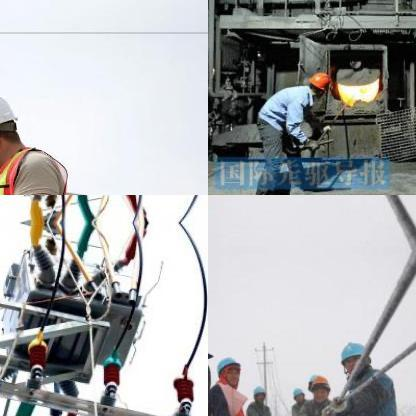Helmet: (0, 80, 26, 175), (336, 340, 366, 372), (213, 353, 241, 387), (306, 370, 330, 400), (306, 70, 332, 94), (252, 382, 266, 402), (290, 387, 304, 401)
